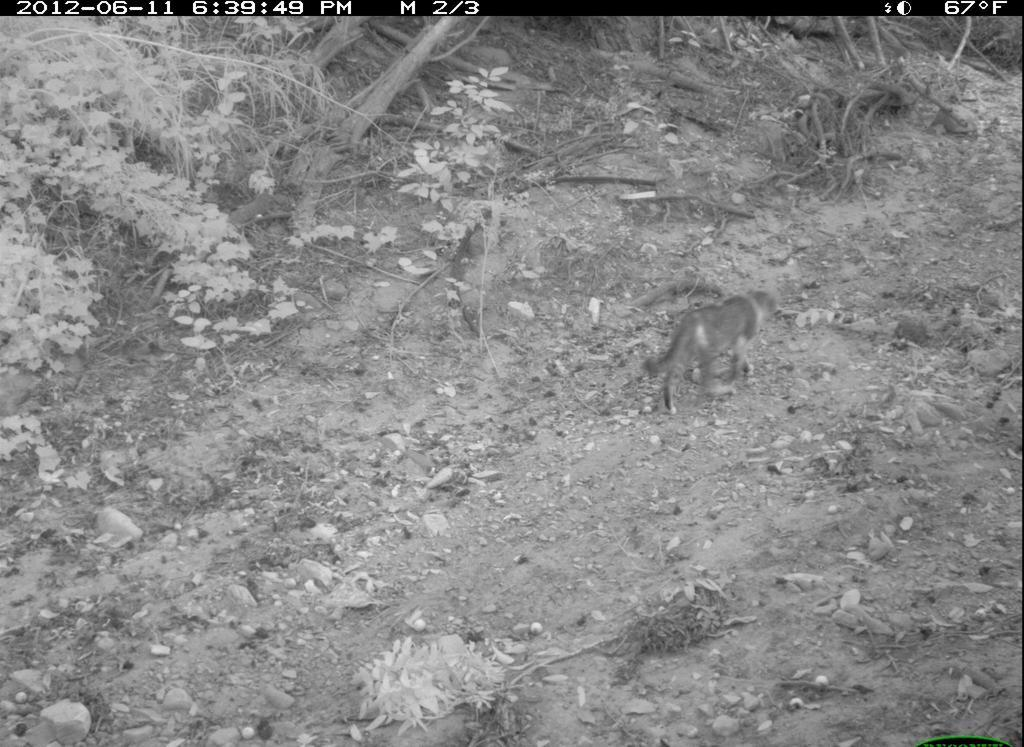cat: (630, 259, 824, 419)
